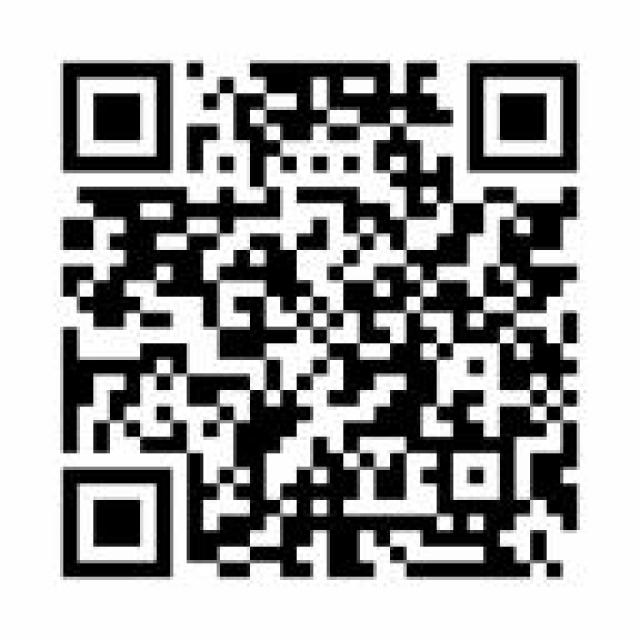QR_CODE: (40, 44, 592, 588)
